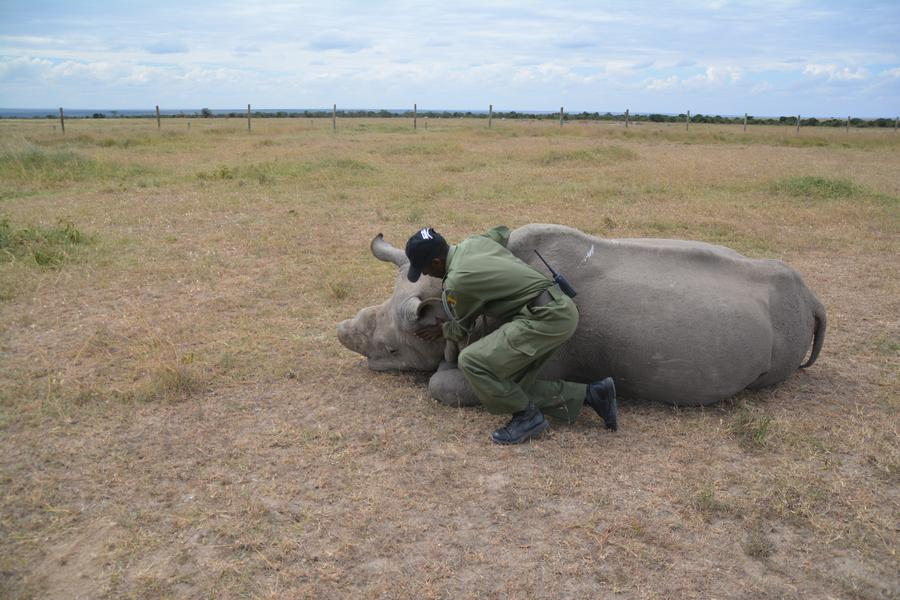rhino: (356, 222, 837, 417)
